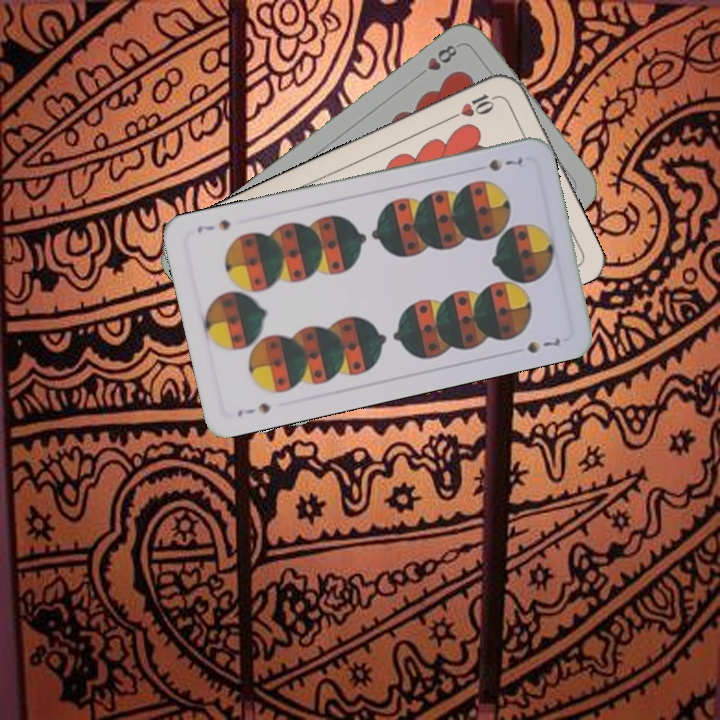H10: (446, 89, 502, 122)
H8: (423, 40, 460, 74)
S7: (233, 398, 273, 420), (484, 154, 527, 174)
